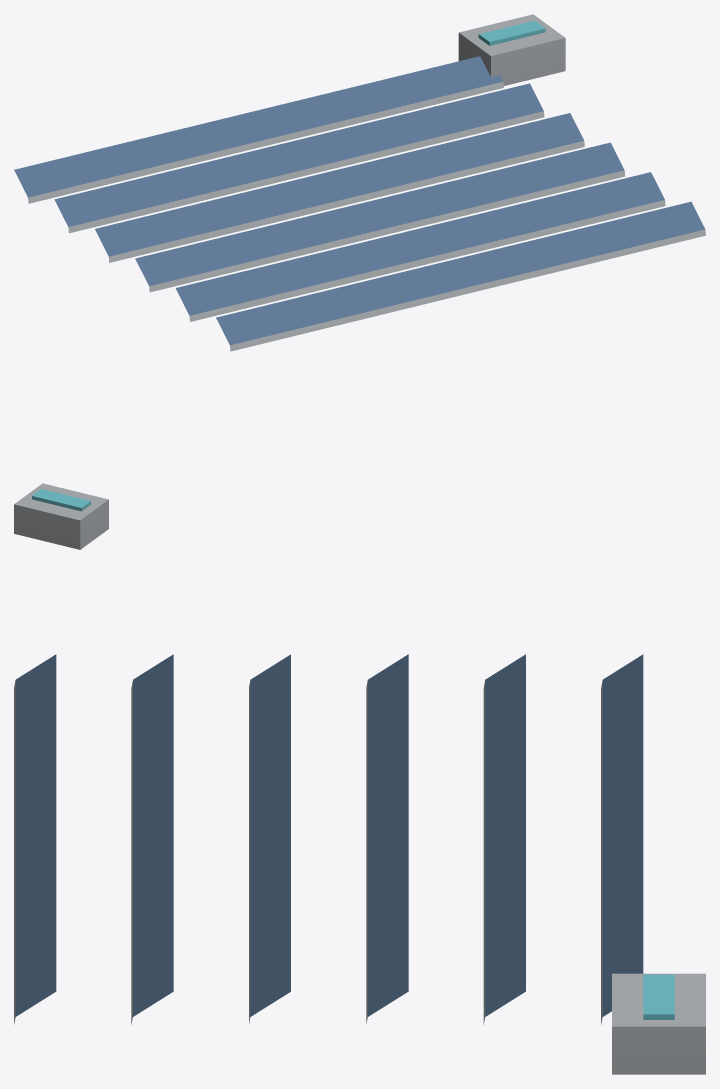
File: plant_solar_l1.glb
3 views of the same model, one above another, from view 1: azimuth 30°, elevation 25°; view 2: azimuth 150°, elevation 25°; view 3: azimuth 270°, elevation 25° (orthographic). The views are drawn at different scales.
Parts seen in each view (by area): view 1: plant_solar_l1; view 2: plant_solar_l1; view 3: plant_solar_l1.
Part boxes in pixels (x1,y1,x2,y2): plant_solar_l1: [14, 14, 705, 351]; plant_solar_l1: [14, 483, 108, 549]; plant_solar_l1: [14, 654, 705, 1074].
Bounding box in the file's own units: 58 × 3.8 × 44.2.
